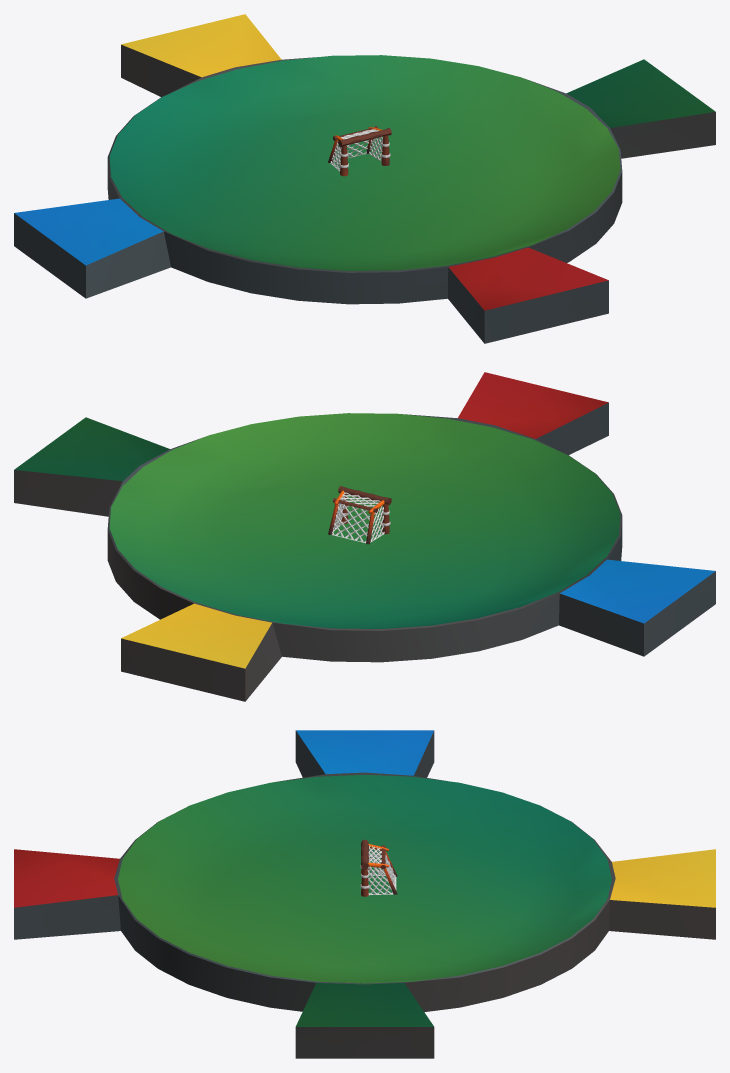
File: Futebol.fbx
The picture shows the model from 3 angles, top to bottom: view 1: azimuth 30°, elevation 25°; view 2: azimuth 150°, elevation 25°; view 3: azimuth 270°, elevation 25°; orthographic projection. The views are drawn at different scales.
Visible parts, largest first — view 1: Arena, Gol, Rede; view 2: Arena, Rede, Gol; view 3: Arena, Gol, Rede.
Part boxes in pixels (x1,y1,x2,y2): Arena: (14,14,715,343); Gol: (328,126,391,176); Rede: (330,129,382,171); Arena: (14,372,715,701); Rede: (331,492,384,543); Gol: (328,486,391,544); Arena: (14,730,715,1058); Gol: (360,839,397,896); Rede: (367,846,396,895).
Size of the model in its own units: 5626 by 523 by 5626.
